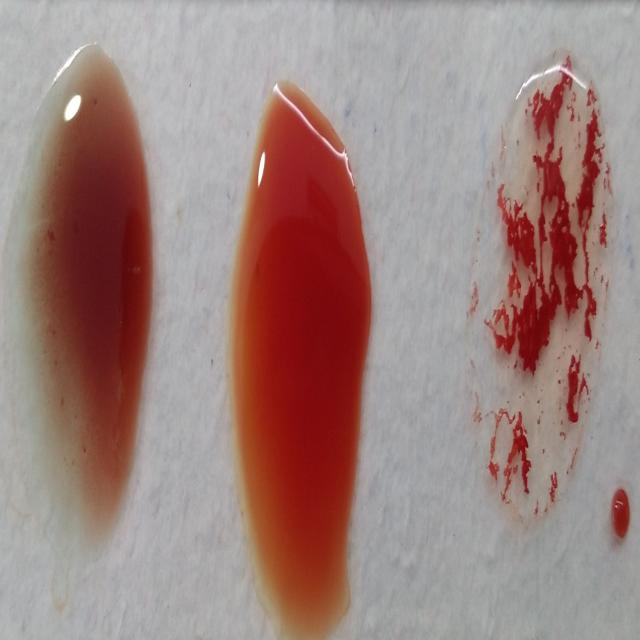D: (469, 64, 605, 518)
